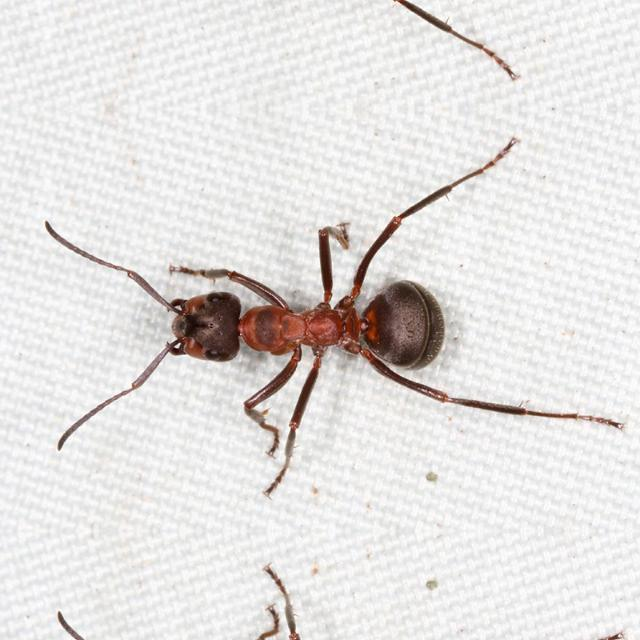Formica: (120, 202, 450, 440)
